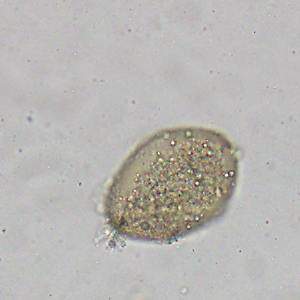Fasciola_hepatica_egg: (104, 123, 237, 247)
